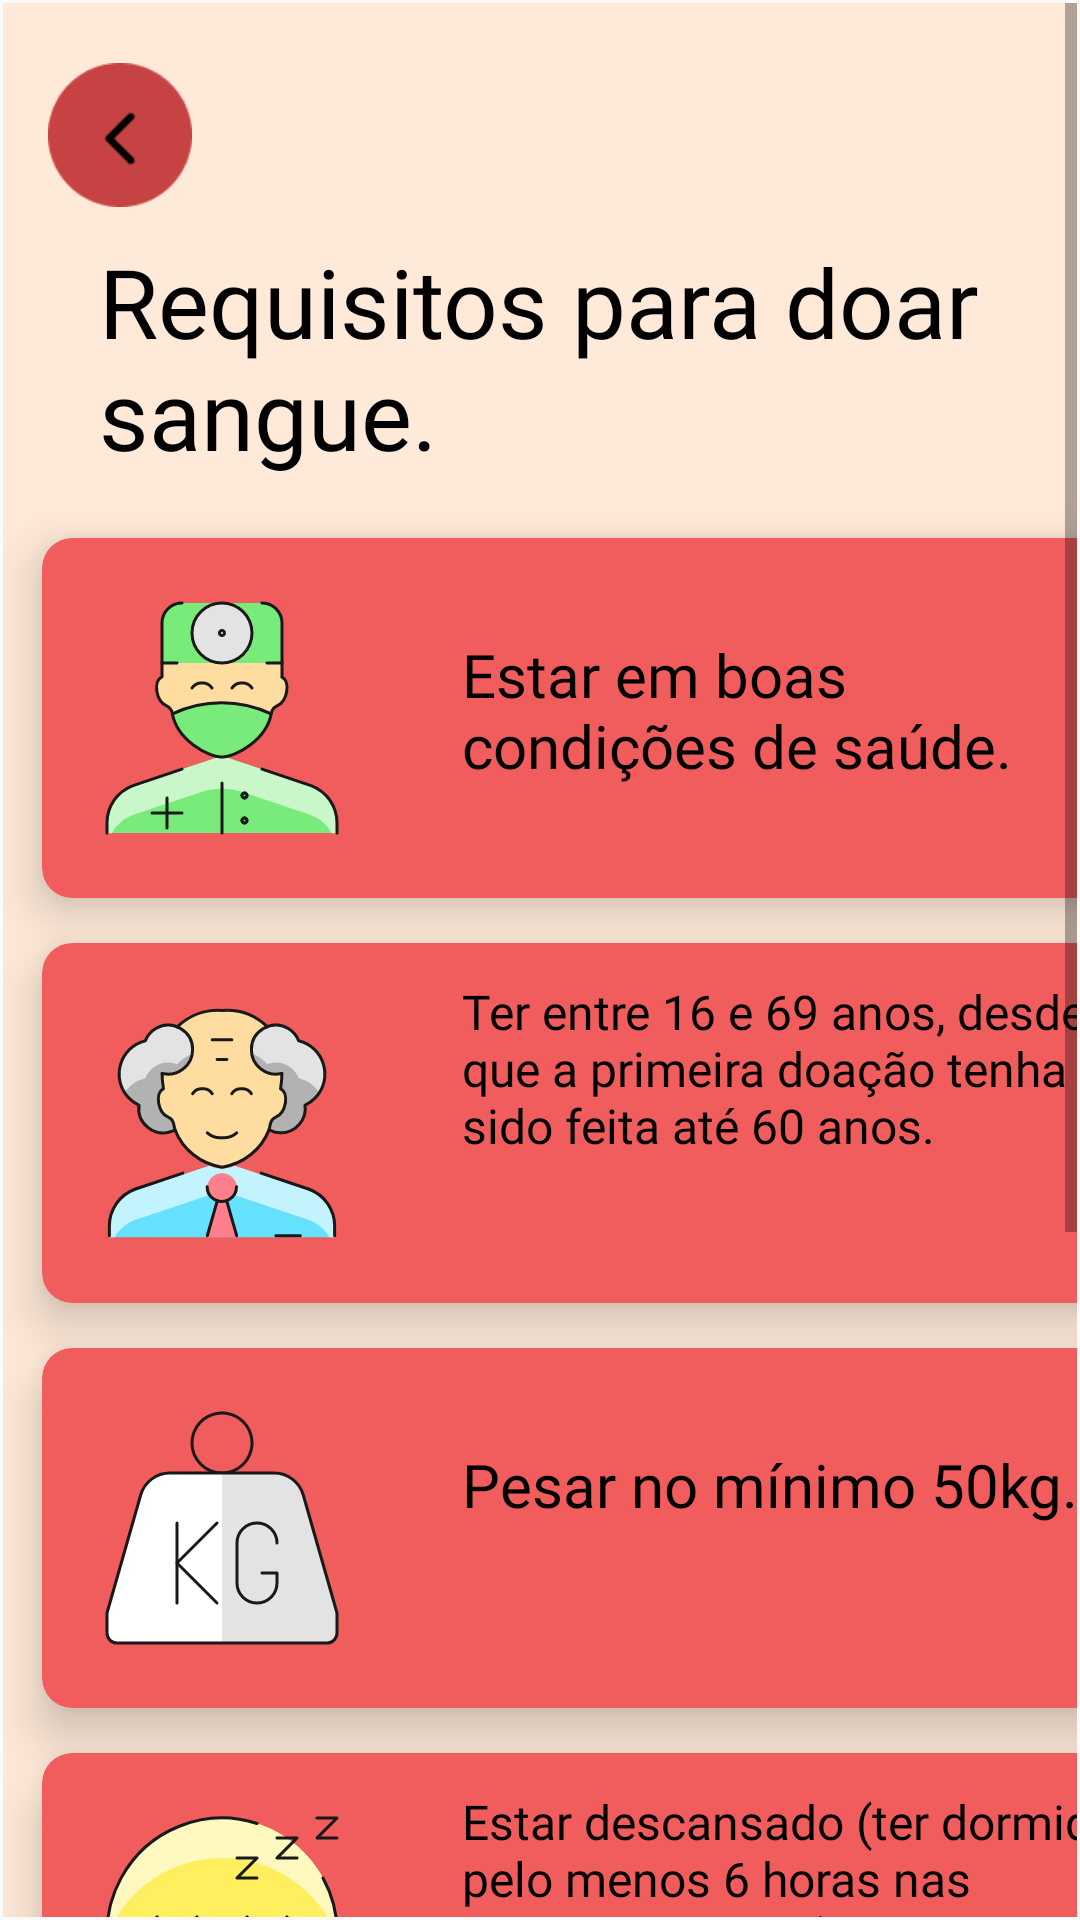

Point at icon controls on the screen. Image size 1080w x 1920h, points as [x,y].
back: [120,135]
